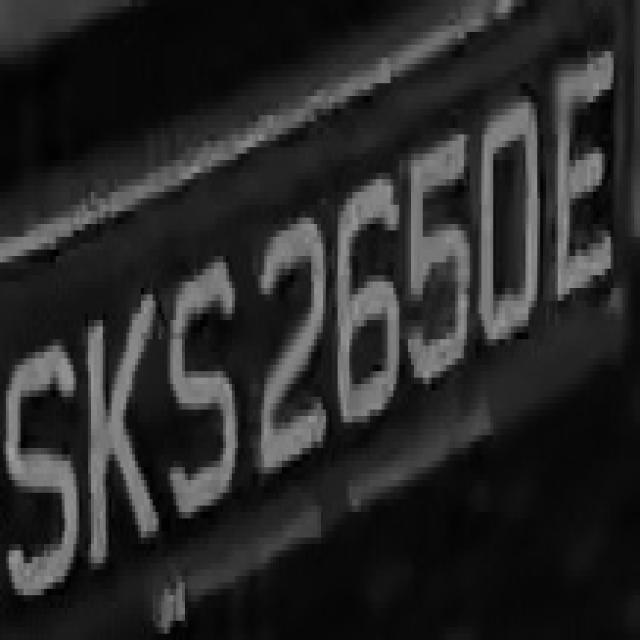0: (476, 90, 549, 358)
2: (250, 198, 334, 500)
5: (402, 115, 479, 397)
6: (335, 140, 402, 442)
E: (543, 44, 617, 346)
K: (82, 276, 168, 582)
S: (164, 237, 241, 544), (6, 326, 79, 608)
